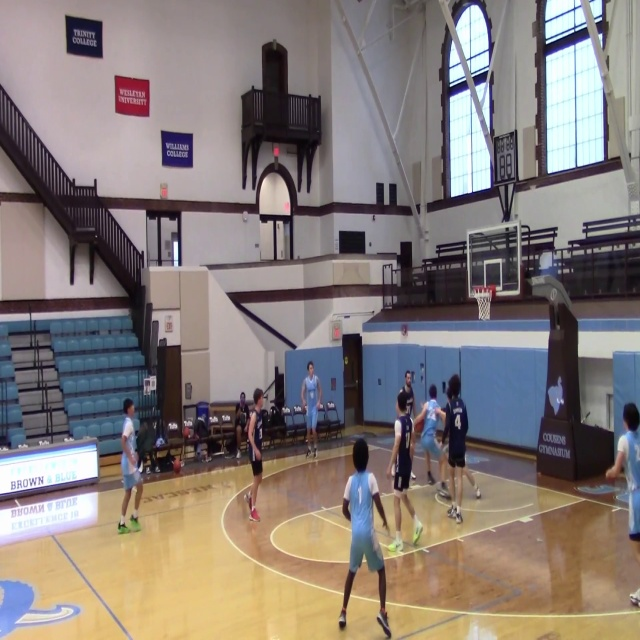Basketball: (605, 469, 616, 481), (172, 459, 181, 472), (316, 403, 323, 411)
